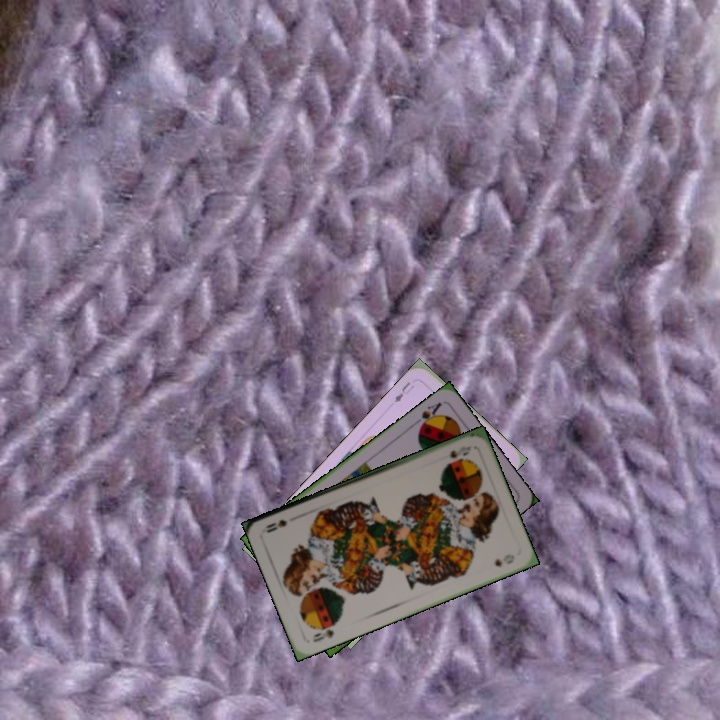EU: (390, 377, 417, 405)
SA: (410, 398, 444, 432)
SO: (309, 619, 339, 645), (445, 442, 473, 461)
